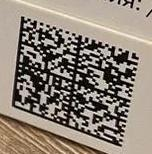datamatrix: (12, 16, 141, 149)
